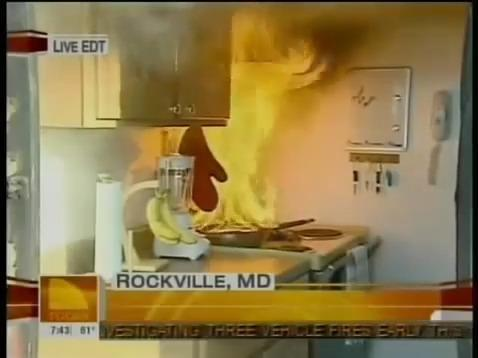fire: (169, 4, 334, 232)
